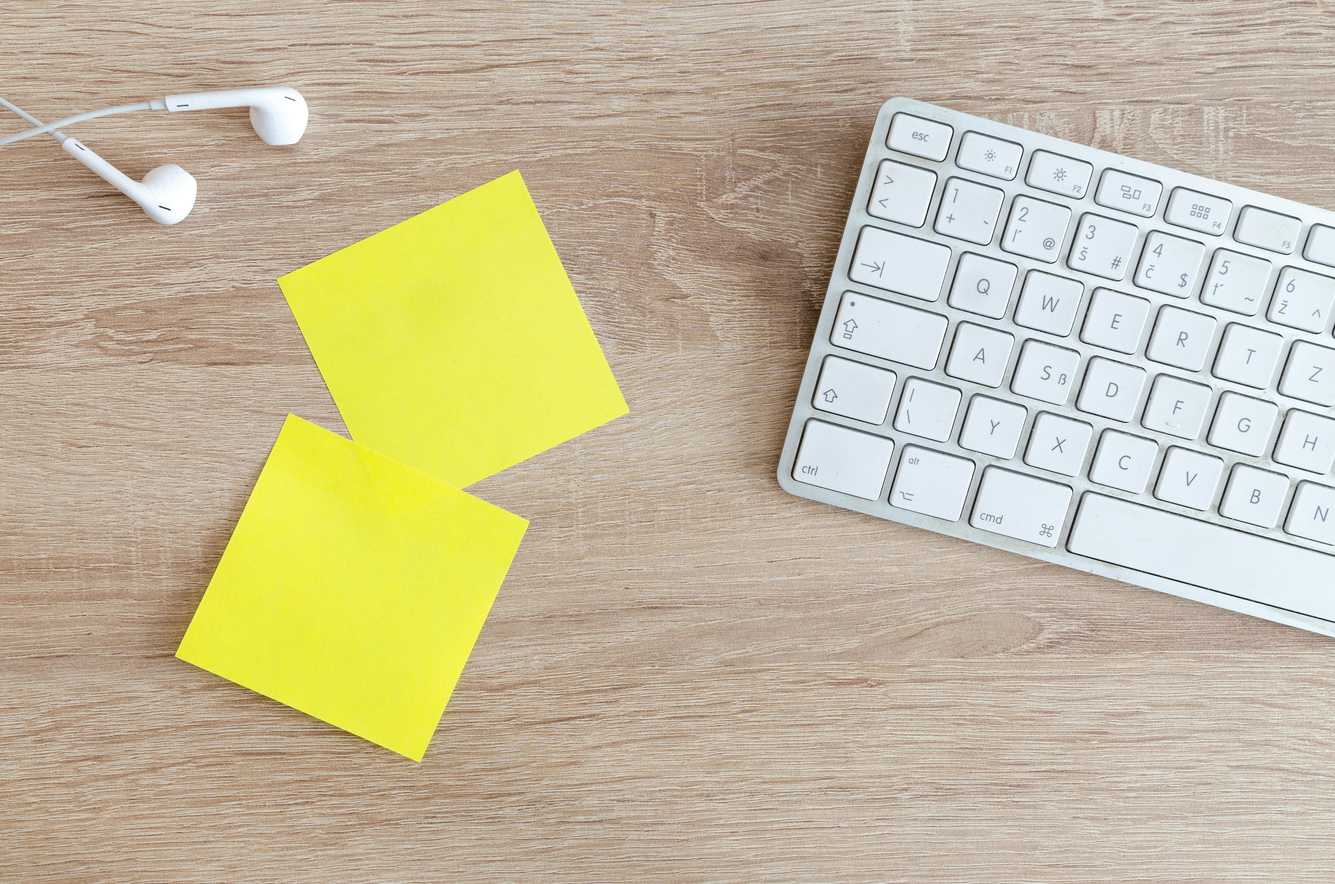paper: (174, 168, 630, 763)
